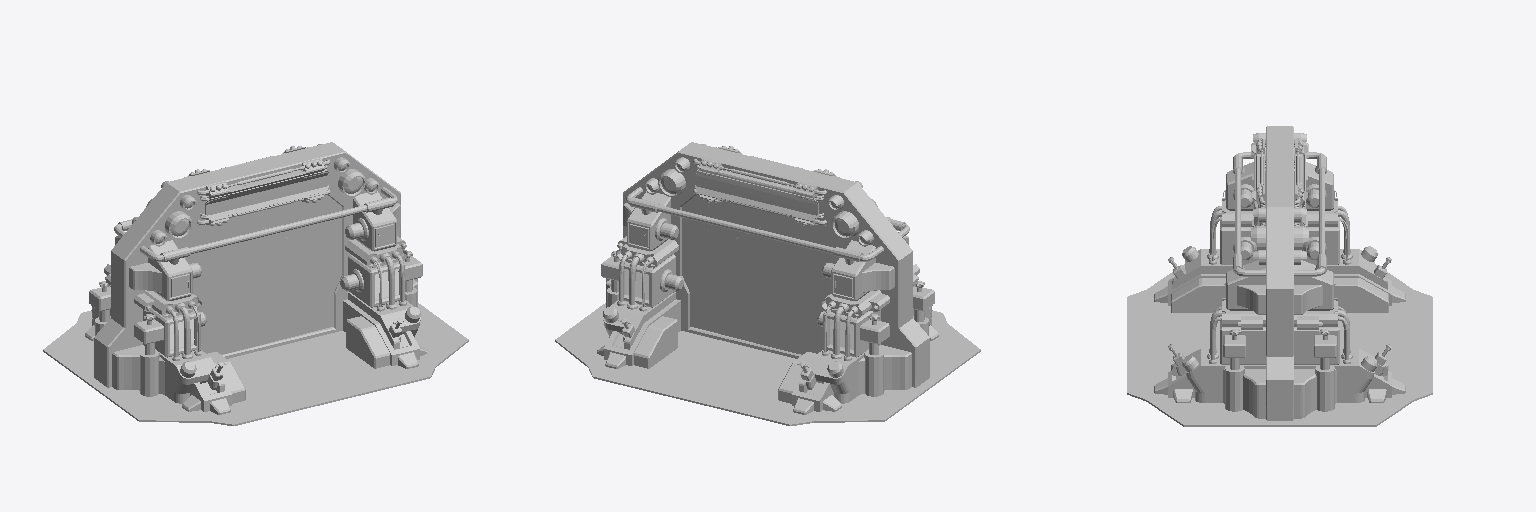
Rendered from Door_Large.obj.
3 views of the same model, side by side, from view 1: azimuth 30°, elevation 25°; view 2: azimuth 150°, elevation 25°; view 3: azimuth 270°, elevation 25° (orthographic).
Parts seen in each view (by area): view 1: Piping_low_Mesh.043, DoorRight_low_Mesh.041, DoorLeft_low_Mesh.044, Screen_low_Mesh.042; view 2: Piping_low_Mesh.043, DoorRight_low_Mesh.041, DoorLeft_low_Mesh.044, Screen_low_Mesh.042; view 3: Piping_low_Mesh.043.
Boxes of the visible parts, box(x1,y1,x2,y2) form: Piping_low_Mesh.043: box(43, 142, 468, 425); DoorRight_low_Mesh.041: box(183, 211, 293, 354); DoorLeft_low_Mesh.044: box(259, 195, 341, 345); Screen_low_Mesh.042: box(206, 173, 327, 220); Piping_low_Mesh.043: box(555, 142, 980, 425); DoorRight_low_Mesh.041: box(730, 211, 840, 354); DoorLeft_low_Mesh.044: box(682, 195, 764, 345); Screen_low_Mesh.042: box(696, 173, 817, 220); Piping_low_Mesh.043: box(1127, 126, 1432, 426).
Size of the model in its own units: 19.82 by 10.39 by 15.89.